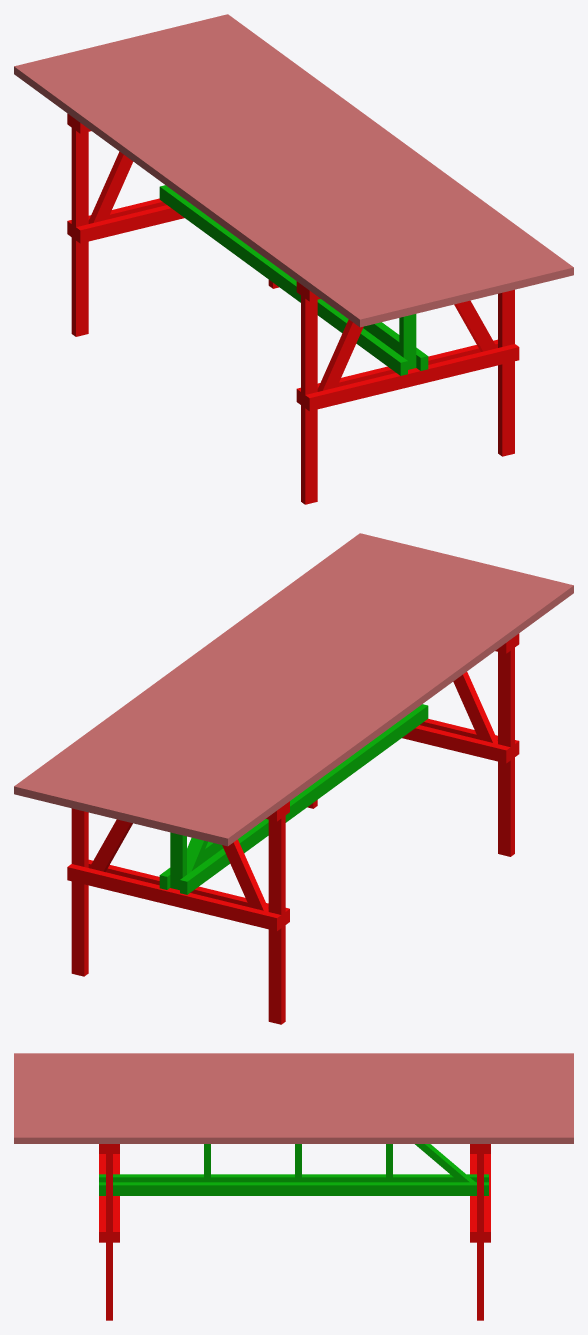
The model's file is result.glb.
The picture shows the model from 3 angles, top to bottom: view 1: azimuth 30°, elevation 25°; view 2: azimuth 150°, elevation 25°; view 3: azimuth 270°, elevation 25°; orthographic projection. The views are drawn at different scales.
Visible parts, largest first — view 1: 8c86e5dd-a823-4c45-a216-e1d1a448f440__Box, d2a84549-9d91-495e-9b33-245f10ce2a8e__undefined, a93463e7-ce45-4640-a461-54e477c95fa9__undefined, aacde618-79d8-4931-b369-55710a033509__undefined, 35d8e814-dc37-48ba-98e2-705a3c06de84__undefined, a1cc88d7-8b80-44fc-8b05-3829b174ee4f__undefined, 88e7826f-e1ee-4ce4-927e-972e11ac7a7e__undefined, 7777019b-8bb6-4534-983b-aebc4decbca0__undefined, e3718432-fe72-412a-9fb3-e383166b6abc__undefined, d939cdfa-7d29-41c2-9634-87c7d6810a52__undefined, bddafe4e-3d79-4ec0-a444-76bf616275b8__undefined, 9ce19938-db77-4d1e-8d24-b206e4942ec3__undefined (+17 smaller); view 2: 8c86e5dd-a823-4c45-a216-e1d1a448f440__Box, d2a84549-9d91-495e-9b33-245f10ce2a8e__undefined, 35d8e814-dc37-48ba-98e2-705a3c06de84__undefined, aacde618-79d8-4931-b369-55710a033509__undefined, a1cc88d7-8b80-44fc-8b05-3829b174ee4f__undefined, a93463e7-ce45-4640-a461-54e477c95fa9__undefined, 88e7826f-e1ee-4ce4-927e-972e11ac7a7e__undefined, bddafe4e-3d79-4ec0-a444-76bf616275b8__undefined, bca92a0f-6351-44de-a8a5-6dbd6450d244__undefined, a5a50d59-790a-44ba-bc92-3bda95f418be__undefined, 7777019b-8bb6-4534-983b-aebc4decbca0__undefined, e3718432-fe72-412a-9fb3-e383166b6abc__undefined (+16 smaller); view 3: 9d7f305d-8c07-4c6c-821e-fe91280380d2__undefined, f48cc3c2-d9ac-4767-ad88-b65d898e0987__strutH, 9ce19938-db77-4d1e-8d24-b206e4942ec3__undefined, d2a84549-9d91-495e-9b33-245f10ce2a8e__undefined, 88e7826f-e1ee-4ce4-927e-972e11ac7a7e__undefined, 35d8e814-dc37-48ba-98e2-705a3c06de84__undefined, b67c7033-d7e2-44c4-a029-a3e44509e233__strutH, 8c86e5dd-a823-4c45-a216-e1d1a448f440__Box, aacde618-79d8-4931-b369-55710a033509__undefined, bca92a0f-6351-44de-a8a5-6dbd6450d244__undefined, a1cc88d7-8b80-44fc-8b05-3829b174ee4f__undefined, a5a50d59-790a-44ba-bc92-3bda95f418be__undefined (+14 smaller).
Boxes of the visible parts, x1,y1,x2,y2 form: 8c86e5dd-a823-4c45-a216-e1d1a448f440__Box: (14,63,372,327); d2a84549-9d91-495e-9b33-245f10ce2a8e__undefined: (178,23,536,287); a93463e7-ce45-4640-a461-54e477c95fa9__undefined: (115,39,473,302); aacde618-79d8-4931-b369-55710a033509__undefined: (27,60,385,324); 35d8e814-dc37-48ba-98e2-705a3c06de84__undefined: (203,17,561,281); a1cc88d7-8b80-44fc-8b05-3829b174ee4f__undefined: (52,54,410,317); 88e7826f-e1ee-4ce4-927e-972e11ac7a7e__undefined: (190,20,548,284); 7777019b-8bb6-4534-983b-aebc4decbca0__undefined: (102,42,460,305); e3718432-fe72-412a-9fb3-e383166b6abc__undefined: (140,32,498,296); d939cdfa-7d29-41c2-9634-87c7d6810a52__undefined: (127,35,485,299); bddafe4e-3d79-4ec0-a444-76bf616275b8__undefined: (152,29,510,293); 9ce19938-db77-4d1e-8d24-b206e4942ec3__undefined: (165,26,523,290); 8c86e5dd-a823-4c45-a216-e1d1a448f440__Box: (215,582,573,846); d2a84549-9d91-495e-9b33-245f10ce2a8e__undefined: (51,542,409,806); 35d8e814-dc37-48ba-98e2-705a3c06de84__undefined: (26,536,384,800); aacde618-79d8-4931-b369-55710a033509__undefined: (202,579,560,843); a1cc88d7-8b80-44fc-8b05-3829b174ee4f__undefined: (177,573,535,836); a93463e7-ce45-4640-a461-54e477c95fa9__undefined: (114,558,472,821); 88e7826f-e1ee-4ce4-927e-972e11ac7a7e__undefined: (39,539,397,803); bddafe4e-3d79-4ec0-a444-76bf616275b8__undefined: (77,548,435,812); bca92a0f-6351-44de-a8a5-6dbd6450d244__undefined: (190,576,548,840); a5a50d59-790a-44ba-bc92-3bda95f418be__undefined: (165,570,523,833); 7777019b-8bb6-4534-983b-aebc4decbca0__undefined: (127,561,485,824); e3718432-fe72-412a-9fb3-e383166b6abc__undefined: (89,551,447,815); 9d7f305d-8c07-4c6c-821e-fe91280380d2__undefined: (14,1132,573,1143); f48cc3c2-d9ac-4767-ad88-b65d898e0987__strutH: (99,1182,488,1195); 9ce19938-db77-4d1e-8d24-b206e4942ec3__undefined: (14,1112,573,1117); d2a84549-9d91-495e-9b33-245f10ce2a8e__undefined: (14,1117,573,1122); 88e7826f-e1ee-4ce4-927e-972e11ac7a7e__undefined: (14,1122,573,1127); 35d8e814-dc37-48ba-98e2-705a3c06de84__undefined: (14,1127,573,1132); b67c7033-d7e2-44c4-a029-a3e44509e233__strutH: (99,1174,488,1182); 8c86e5dd-a823-4c45-a216-e1d1a448f440__Box: (14,1053,573,1057); aacde618-79d8-4931-b369-55710a033509__undefined: (14,1058,573,1062); bca92a0f-6351-44de-a8a5-6dbd6450d244__undefined: (14,1063,573,1067); a1cc88d7-8b80-44fc-8b05-3829b174ee4f__undefined: (14,1068,573,1072); a5a50d59-790a-44ba-bc92-3bda95f418be__undefined: (14,1073,573,1077).
Size of the model in its own units: 714 by 725 by 2000.
